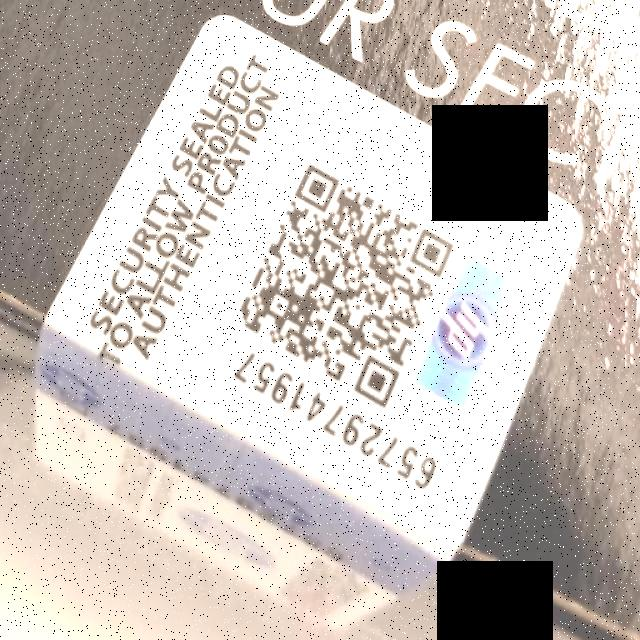QR_CODE: (232, 154, 460, 418)
